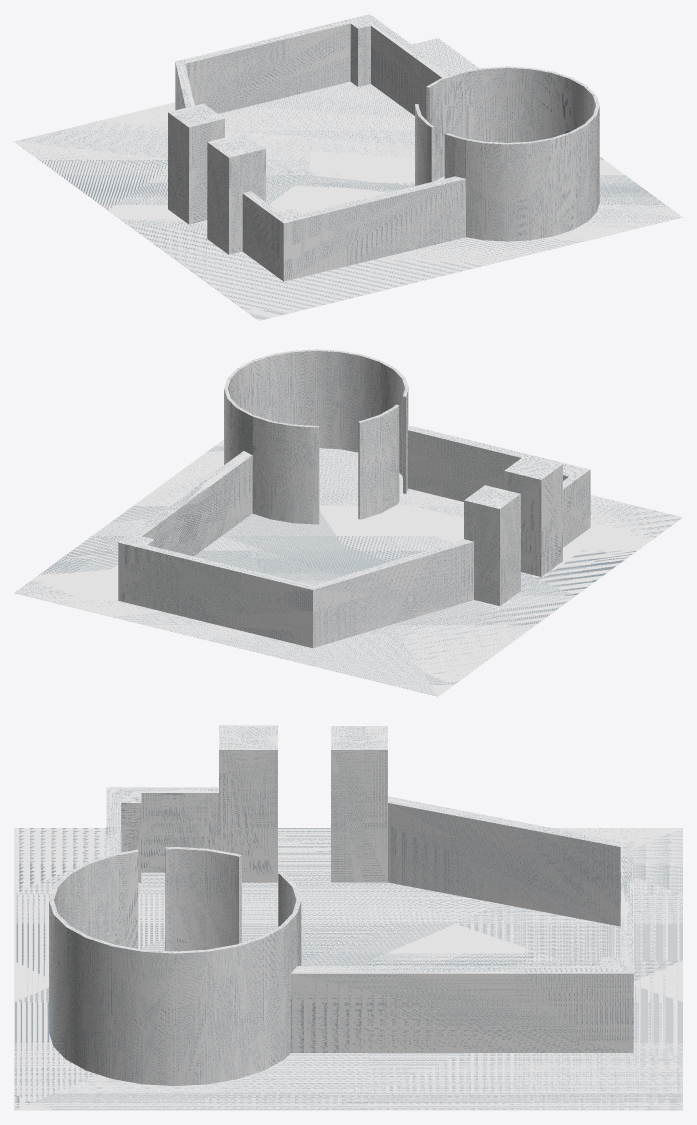
The model's file is greenest-keep.dae.
3 renders of one model, top to bottom at view 1: azimuth 30°, elevation 25°; view 2: azimuth 150°, elevation 25°; view 3: azimuth 270°, elevation 25°, orthographic. The views are drawn at different scales.
Parts seen in each view (by area): view 1: SketchUp (×2), group_0; view 2: SketchUp (×2), group_0; view 3: SketchUp (×2), group_0.
Part boxes in pixels (bbox=[...]): SketchUp (×2): bbox=[168, 14, 599, 281]; group_0: bbox=[14, 38, 682, 320]; SketchUp (×2): bbox=[118, 349, 590, 648]; group_0: bbox=[14, 439, 682, 696]; SketchUp (×2): bbox=[49, 725, 633, 1085]; group_0: bbox=[14, 828, 682, 1110].
Size of the model in its own units: 1800 by 1800 by 394.
